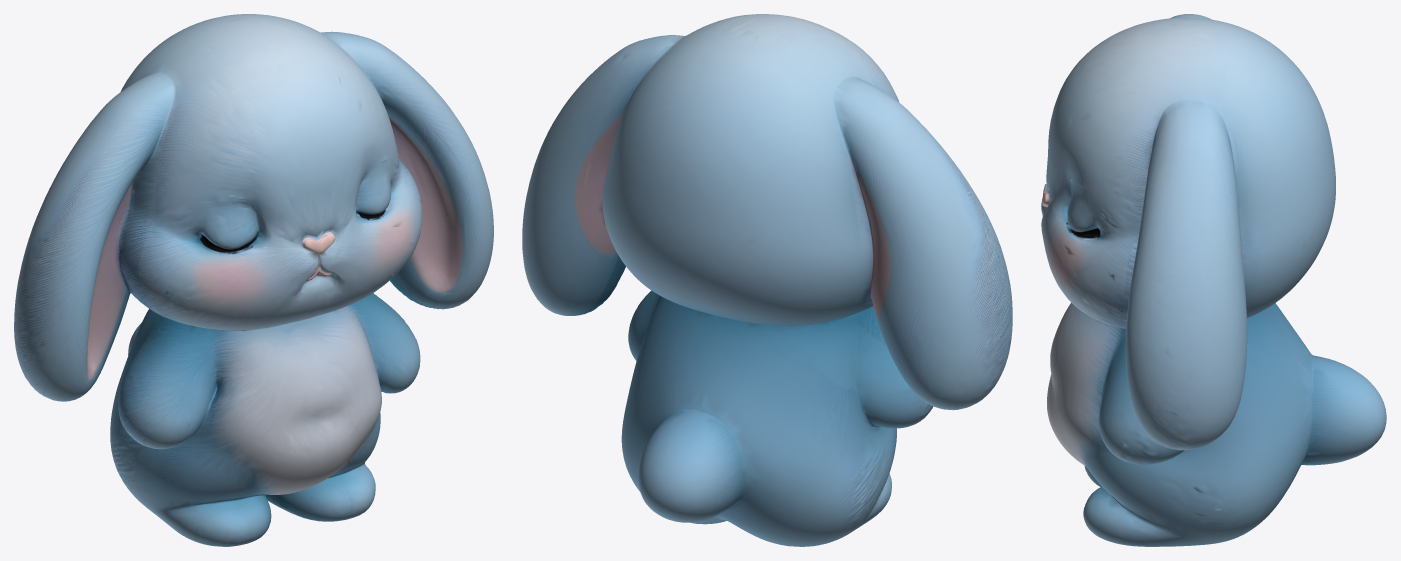
The model's file is changfeng_baby.glb.
3 renders of one model, left to right at view 1: azimuth 30°, elevation 25°; view 2: azimuth 150°, elevation 25°; view 3: azimuth 270°, elevation 25°, orthographic. The views are drawn at different scales.
Visible parts, largest first — view 1: node_0; view 2: node_0; view 3: node_0.
Boxes of the visible parts, bbox=[...] form: node_0: bbox=[14, 14, 493, 546]; node_0: bbox=[522, 14, 1012, 546]; node_0: bbox=[1041, 14, 1386, 546].
Bounding box in the file's own units: 1.09 × 1.06 × 0.703.
Materials: 1 (1 with a texture image).
